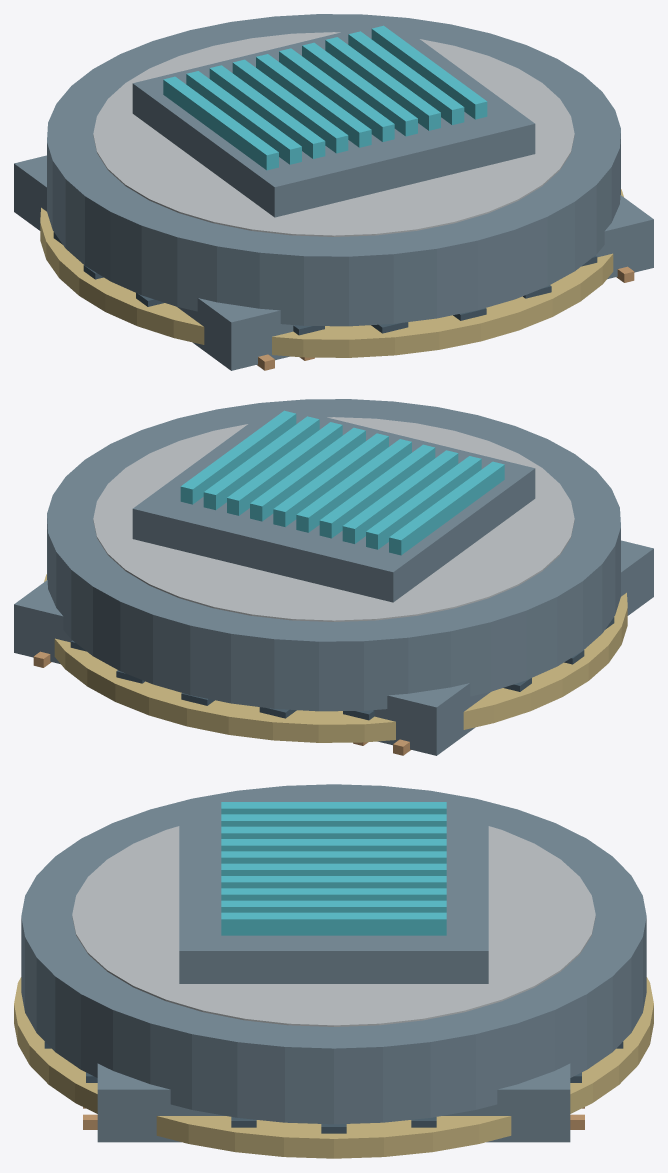
File: 23_L79_UpperDieElectrostaticChuck.glb
3 views of the same model, one above another, from view 1: azimuth 30°, elevation 25°; view 2: azimuth 150°, elevation 25°; view 3: azimuth 270°, elevation 25° (orthographic). The views are drawn at different scales.
Parts seen in each view (by area): view 1: UpperDieElectrostaticChuck_Node_0000, UpperDieElectrostaticChuck_Node_0043, UpperDieElectrostaticChuck_Node_0032, UpperDieElectrostaticChuck_Node_0001, UpperDieElectrostaticChuck_Node_0055, UpperDieElectrostaticChuck_Node_0033, UpperDieElectrostaticChuck_Node_0062, UpperDieElectrostaticChuck_Node_0041, UpperDieElectrostaticChuck_Node_0035, UpperDieElectrostaticChuck_Node_0036, UpperDieElectrostaticChuck_Node_0042, UpperDieElectrostaticChuck_Node_0039 (+4 smaller); view 2: UpperDieElectrostaticChuck_Node_0000, UpperDieElectrostaticChuck_Node_0043, UpperDieElectrostaticChuck_Node_0032, UpperDieElectrostaticChuck_Node_0001, UpperDieElectrostaticChuck_Node_0055, UpperDieElectrostaticChuck_Node_0033, UpperDieElectrostaticChuck_Node_0062, UpperDieElectrostaticChuck_Node_0041, UpperDieElectrostaticChuck_Node_0035, UpperDieElectrostaticChuck_Node_0036, UpperDieElectrostaticChuck_Node_0042, UpperDieElectrostaticChuck_Node_0039 (+4 smaller); view 3: UpperDieElectrostaticChuck_Node_0000, UpperDieElectrostaticChuck_Node_0043, UpperDieElectrostaticChuck_Node_0032, UpperDieElectrostaticChuck_Node_0001, UpperDieElectrostaticChuck_Node_0062, UpperDieElectrostaticChuck_Node_0042, UpperDieElectrostaticChuck_Node_0033, UpperDieElectrostaticChuck_Node_0034, UpperDieElectrostaticChuck_Node_0035, UpperDieElectrostaticChuck_Node_0036, UpperDieElectrostaticChuck_Node_0037, UpperDieElectrostaticChuck_Node_0038 (+3 smaller).
Part boxes in pixels (x1,y1,x2,y2): UpperDieElectrostaticChuck_Node_0000: (47,14,620,326); UpperDieElectrostaticChuck_Node_0043: (93,32,574,236); UpperDieElectrostaticChuck_Node_0032: (132,20,535,217); UpperDieElectrostaticChuck_Node_0001: (40,189,623,357); UpperDieElectrostaticChuck_Node_0055: (14,155,294,370); UpperDieElectrostaticChuck_Node_0033: (163,76,278,170); UpperDieElectrostaticChuck_Node_0062: (595,195,653,279); UpperDieElectrostaticChuck_Node_0041: (348,31,464,125); UpperDieElectrostaticChuck_Node_0035: (209,65,325,158); UpperDieElectrostaticChuck_Node_0036: (232,59,348,153); UpperDieElectrostaticChuck_Node_0042: (371,25,487,119); UpperDieElectrostaticChuck_Node_0039: (302,42,417,136); UpperDieElectrostaticChuck_Node_0000: (47,399,620,711); UpperDieElectrostaticChuck_Node_0043: (93,417,574,621); UpperDieElectrostaticChuck_Node_0032: (132,405,535,602); UpperDieElectrostaticChuck_Node_0001: (44,574,627,742); UpperDieElectrostaticChuck_Node_0055: (373,540,653,755); UpperDieElectrostaticChuck_Node_0033: (389,461,504,555); UpperDieElectrostaticChuck_Node_0062: (14,580,72,664); UpperDieElectrostaticChuck_Node_0041: (203,416,319,510); UpperDieElectrostaticChuck_Node_0035: (342,450,458,543); UpperDieElectrostaticChuck_Node_0036: (319,444,435,538); UpperDieElectrostaticChuck_Node_0042: (180,410,296,504); UpperDieElectrostaticChuck_Node_0039: (250,427,365,521); UpperDieElectrostaticChuck_Node_0000: (21,784,646,1124); UpperDieElectrostaticChuck_Node_0043: (72,826,595,1026); UpperDieElectrostaticChuck_Node_0032: (179,812,488,983); UpperDieElectrostaticChuck_Node_0001: (14,977,653,1158); UpperDieElectrostaticChuck_Node_0062: (97,1063,570,1142); UpperDieElectrostaticChuck_Node_0042: (221,912,446,935); UpperDieElectrostaticChuck_Node_0033: (221,802,446,814); UpperDieElectrostaticChuck_Node_0034: (221,814,446,826); UpperDieElectrostaticChuck_Node_0035: (221,826,446,838); UpperDieElectrostaticChuck_Node_0036: (221,839,446,851); UpperDieElectrostaticChuck_Node_0037: (221,851,446,863); UpperDieElectrostaticChuck_Node_0038: (221,863,446,875).
Bounding box in the file's own units: 1.76 × 0.54 × 1.76.
